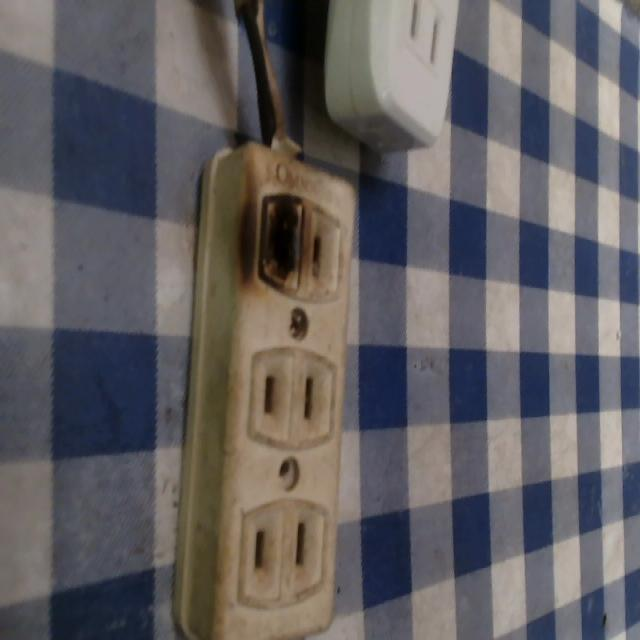-: (256, 178, 308, 298)
